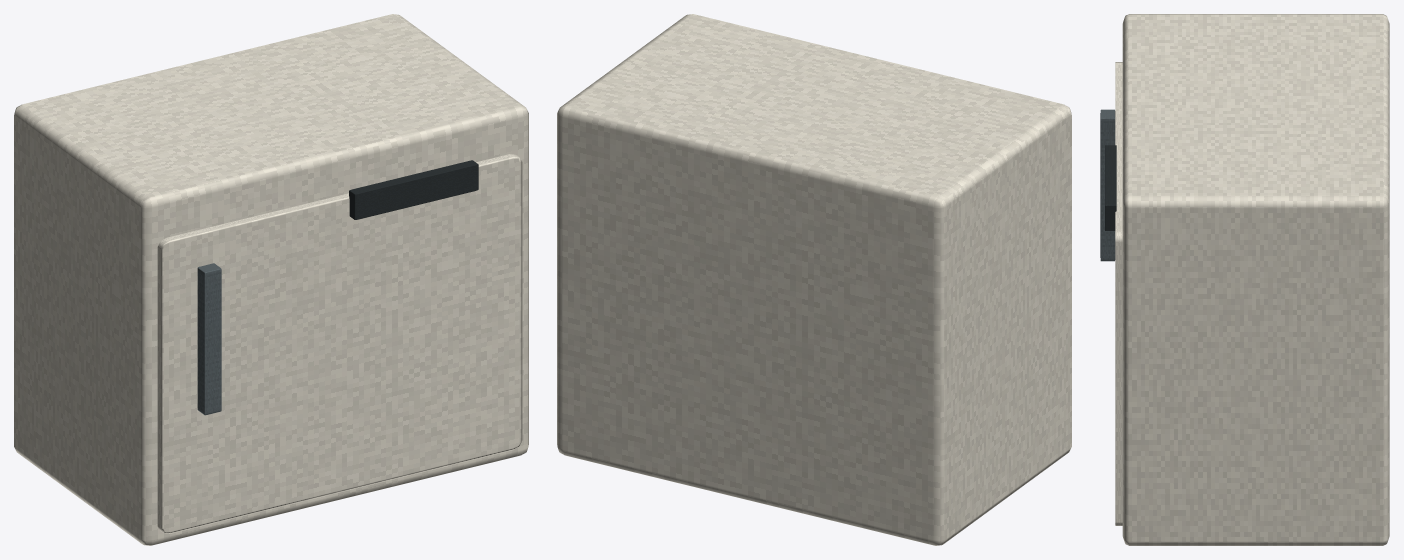
Rendered from freezer.glb.
The picture shows the model from 3 angles, left to right: view 1: azimuth 30°, elevation 25°; view 2: azimuth 150°, elevation 25°; view 3: azimuth 270°, elevation 25°; orthographic projection.
Visible parts, largest first — view 1: case, front, display, pull; view 2: case; view 3: case, front, pull, display.
Boxes of the visible parts, x1=… form: case: x1=14, y1=14, x2=528, y2=545; front: x1=157, y1=154, x2=522, y2=533; display: x1=349, y1=160, x2=478, y2=219; pull: x1=197, y1=263, x2=221, y2=415; case: x1=557, y1=14, x2=1071, y2=545; case: x1=1122, y1=14, x2=1389, y2=545; front: x1=1115, y1=62, x2=1122, y2=525; pull: x1=1100, y1=109, x2=1115, y2=261; display: x1=1105, y1=145, x2=1116, y2=230.
Size of the model in its own units: 1 by 0.86 by 0.6435.
Materials: 3 (3 with a texture image).
